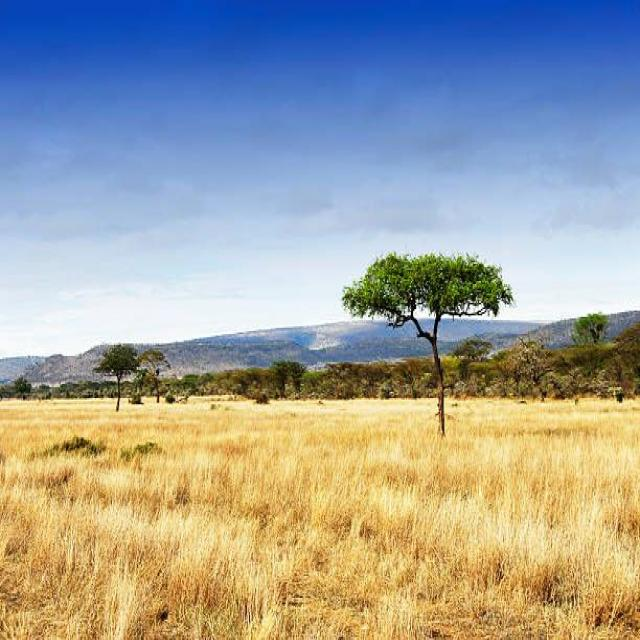Acacia: (336, 255, 509, 439), (89, 339, 143, 417)
